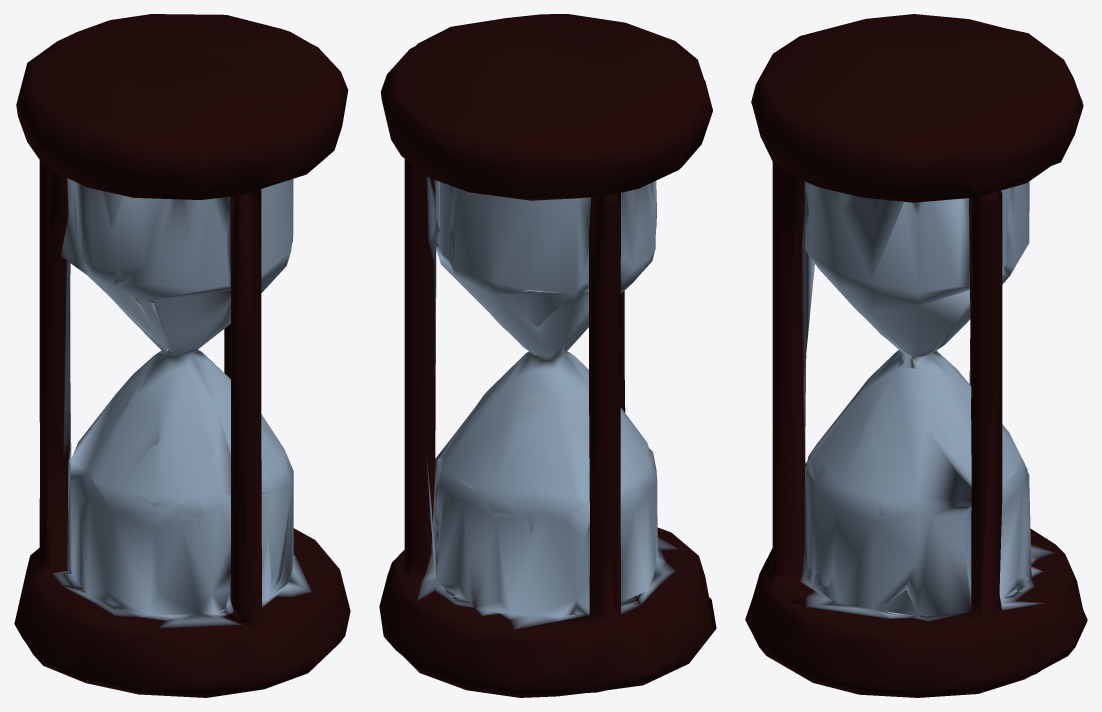
The model's file is gen3d-hourglass-lod0.glb.
3 views of the same model, side by side, from view 1: azimuth 30°, elevation 25°; view 2: azimuth 150°, elevation 25°; view 3: azimuth 270°, elevation 25° (orthographic).
Parts seen in each view (by area): view 1: part_0; view 2: part_0; view 3: part_0.
Boxes of the visible parts, x1,y1,x2,y2 form: part_0: [14, 14, 350, 697]; part_0: [379, 14, 716, 697]; part_0: [745, 14, 1087, 697].
Bounding box in the file's own units: 0.5519 × 0.9995 × 0.5506.
